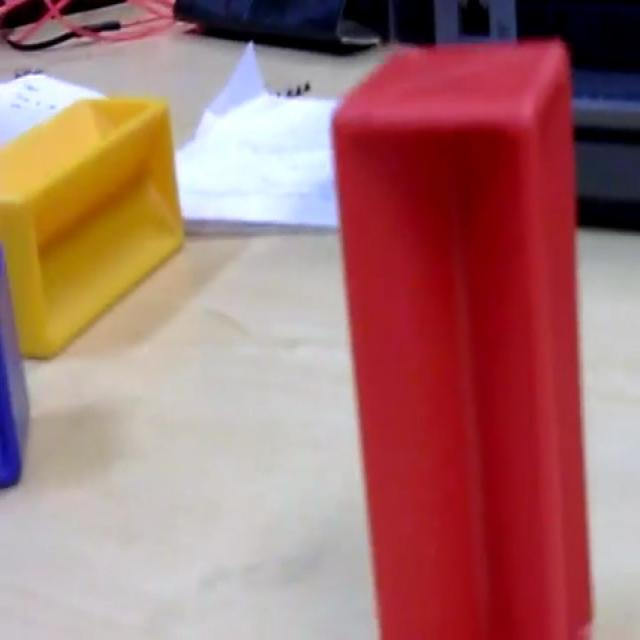red_block: (329, 36, 594, 636)
yellow_block: (1, 92, 184, 359)
